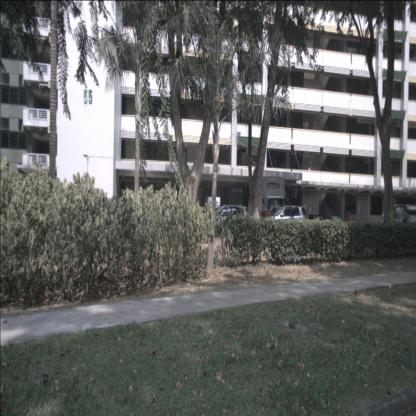vehicle-car: (264, 205, 309, 240), (205, 204, 249, 237)
vehicle-truck: (254, 176, 286, 235), (381, 203, 415, 242), (205, 195, 221, 229)
